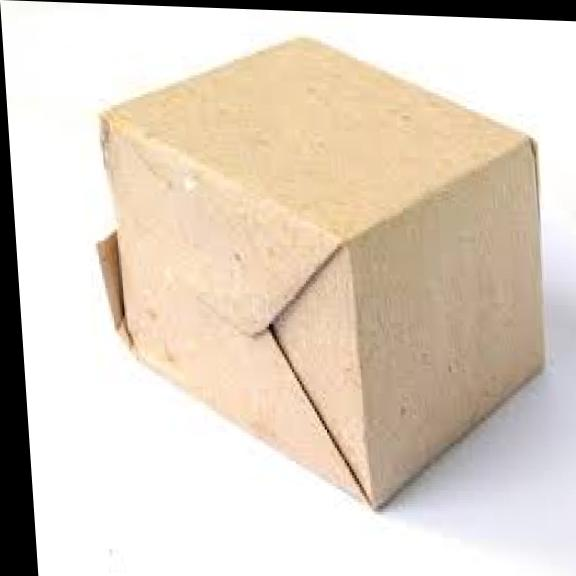Kertas: (98, 41, 544, 505)
